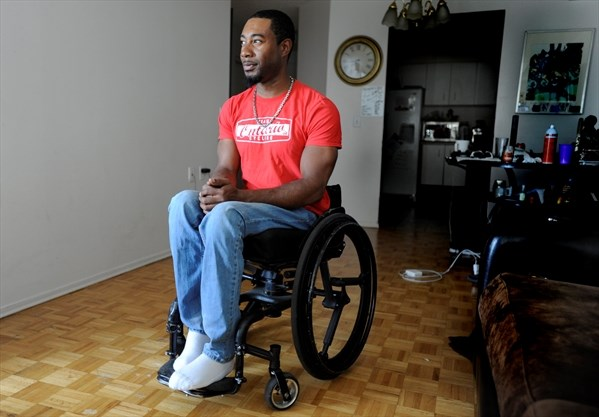Person: (155, 9, 344, 389)
